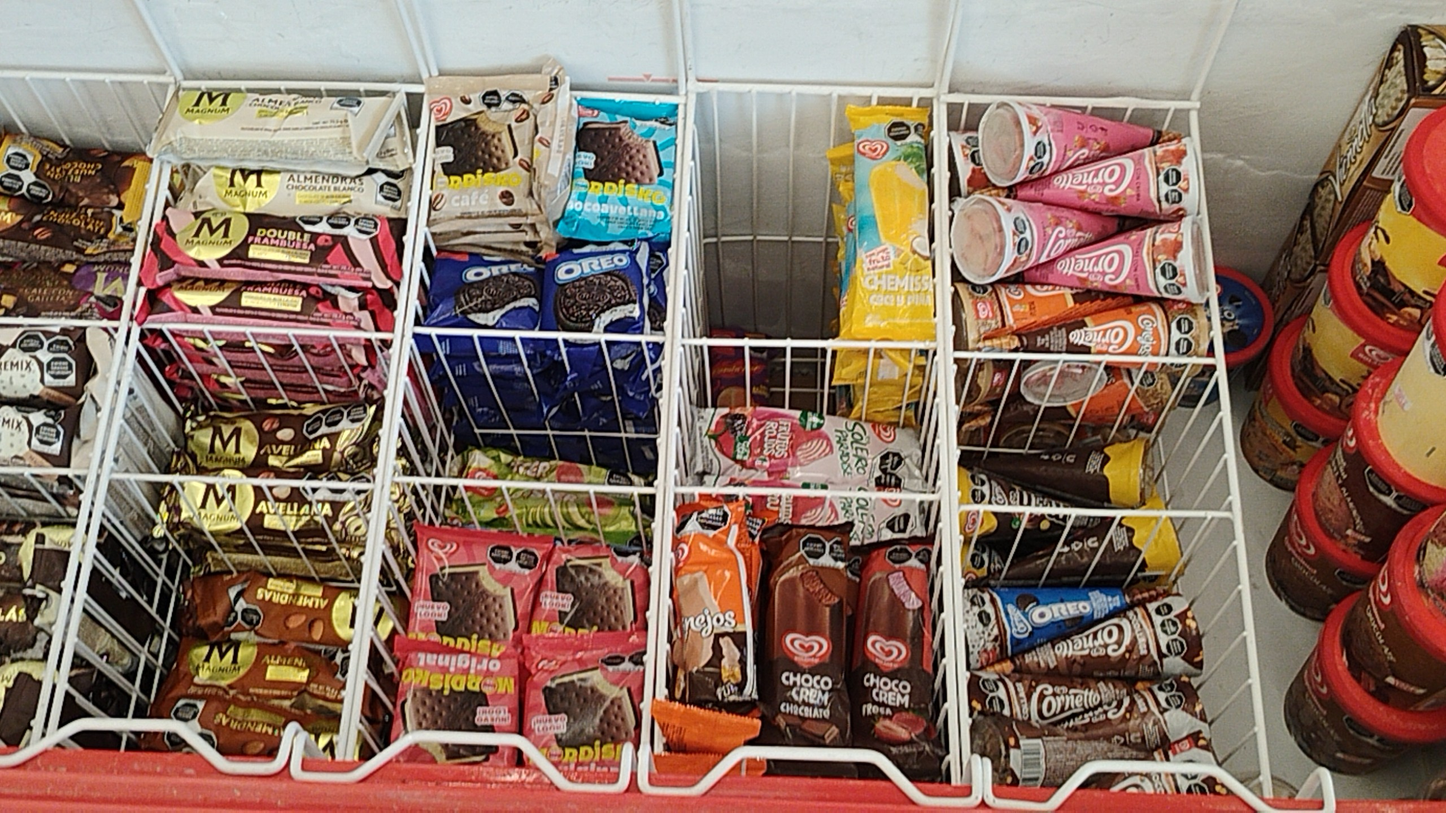rejilla: (28, 159, 160, 750), (45, 163, 172, 747), (336, 95, 430, 758), (345, 113, 436, 760), (1190, 110, 1273, 797), (653, 92, 696, 755), (641, 104, 685, 747), (940, 103, 971, 782), (934, 97, 961, 785), (391, 476, 655, 493), (140, 321, 392, 338), (961, 504, 1231, 519), (939, 93, 1200, 108), (413, 326, 665, 341), (687, 81, 937, 96), (107, 474, 372, 488), (955, 351, 1214, 365), (676, 486, 941, 499), (181, 80, 425, 92), (684, 338, 937, 347), (0, 69, 175, 81), (571, 90, 686, 103), (0, 317, 118, 327), (1, 467, 87, 475)
